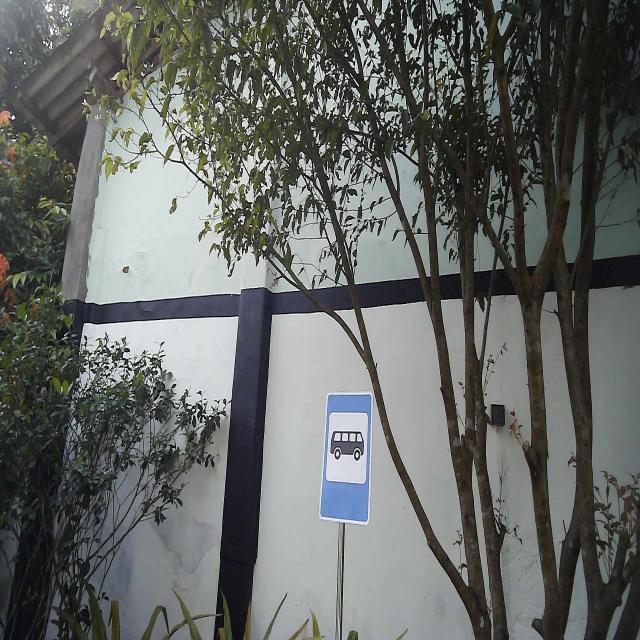bus_stop: (317, 390, 375, 528)
